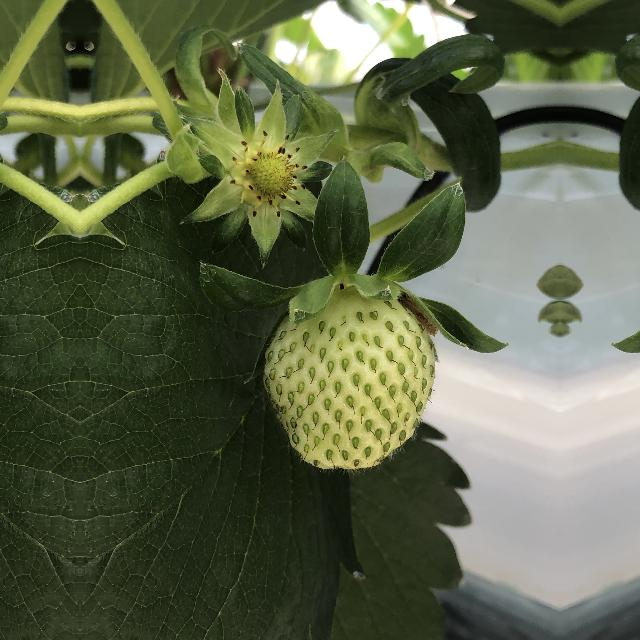Health_25: (264, 276, 443, 476)
